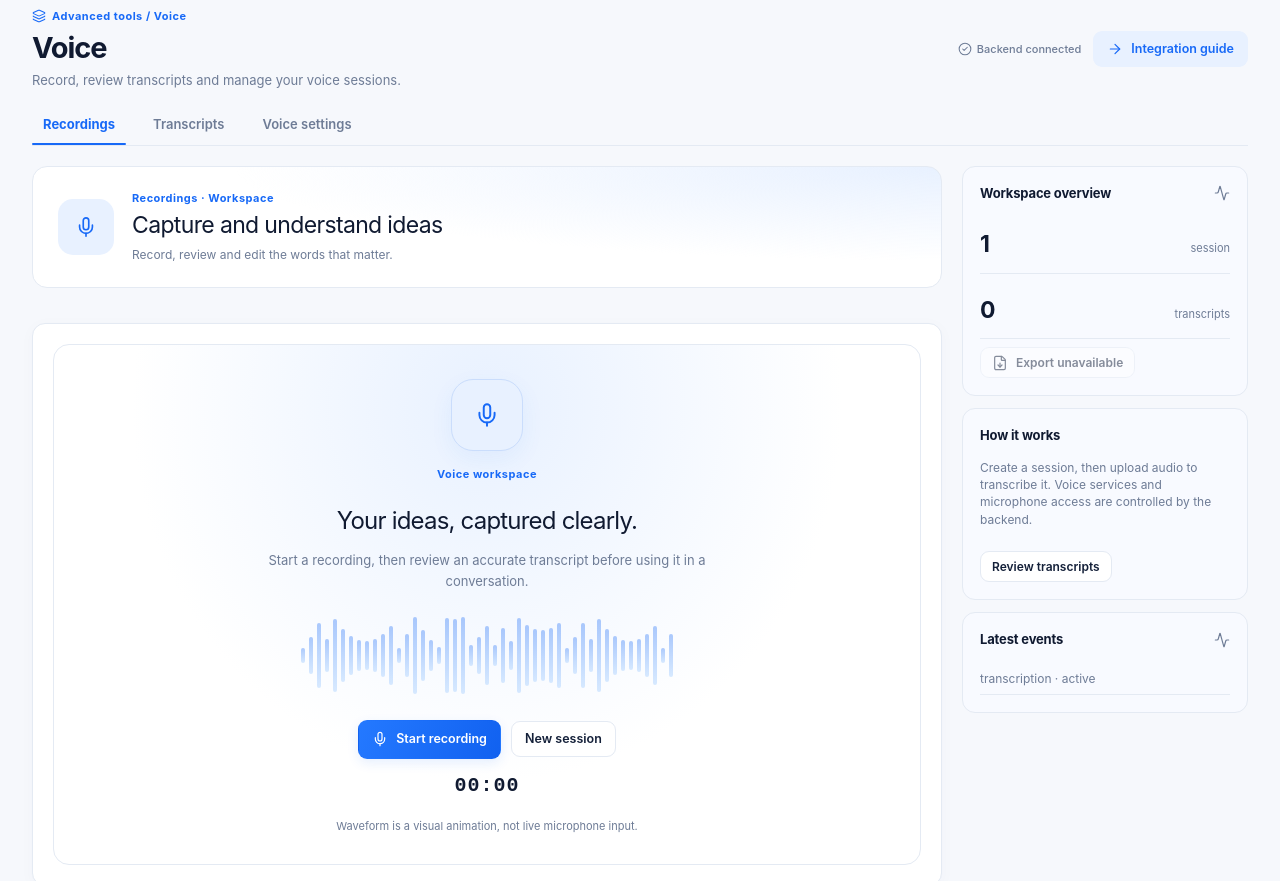
Voice workspace backend integration › keeps microphone denial local and does not submit audio
The width and height of the screenshot is (1280, 881).
Click the button "Start recording". click: (430, 739)
box: [358,720,501,759]
(page scrolled)
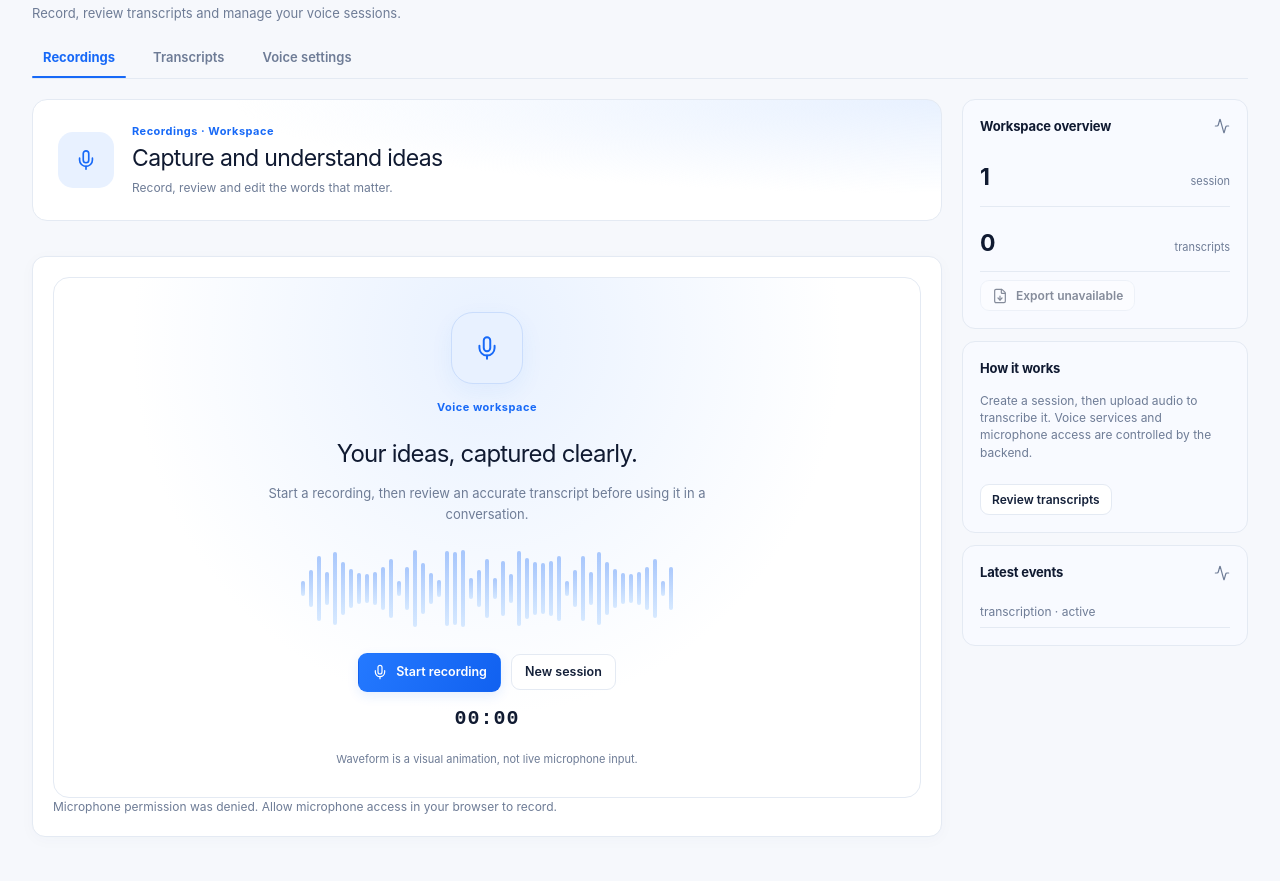
Now the text "Microphone permission was denied" is shown, box [53,799,557,814]
